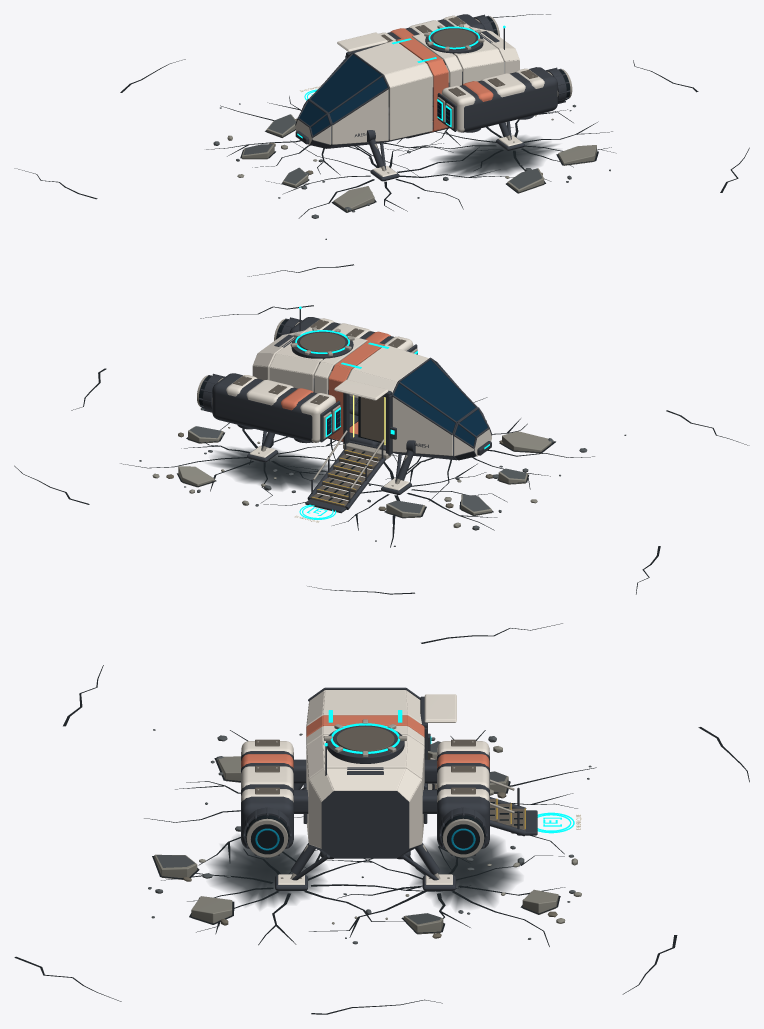
File: ares-lander.glb
The picture shows the model from 3 angles, top to bottom: view 1: azimuth 30°, elevation 25°; view 2: azimuth 150°, elevation 25°; view 3: azimuth 270°, elevation 25°; orthographic projection. The views are drawn at different scales.
Parts seen in each view (by area): view 1: ARES_nave_08, ARES_nave_14, ARES_impacto_04, ARES_nave_07, ARES_impacto_02, ARES_impacto_03, ARES_nave_11, ARES_impacto_01, ARES_nave_09, ARES_nave_05, ARES_nave_17; view 2: ARES_nave_08, ARES_nave_14, ARES_nave_07, ARES_nave_09, ARES_impacto_04, ARES_impacto_02, ARES_impacto_03, ARES_nave_11, ARES_impacto_01, ARES_nave_05, ARES_nave_10, ARES_nave_17 (+1 smaller); view 3: ARES_nave_14, ARES_nave_08, ARES_impacto_02, ARES_impacto_04, ARES_impacto_03, ARES_nave_09, ARES_nave_11, ARES_nave_06, ARES_nave_05, ARES_impacto_01, ARES_nave_17.
Boxes of the visible parts, x1=… form: ARES_nave_08: x1=295, y1=15, x2=544, y2=176; ARES_nave_14: x1=295, y1=14, x2=570, y2=181; ARES_impacto_04: x1=14, y1=14, x2=749, y2=276; ARES_nave_07: x1=299, y1=54, x2=450, y2=135; ARES_impacto_02: x1=433, y1=136, x2=558, y2=177; ARES_impacto_03: x1=227, y1=114, x2=596, y2=212; ARES_nave_11: x1=390, y1=28, x2=493, y2=132; ARES_impacto_01: x1=213, y1=103, x2=610, y2=239; ARES_nave_09: x1=381, y1=17, x2=538, y2=96; ARES_nave_05: x1=374, y1=16, x2=572, y2=173; ARES_nave_17: x1=297, y1=25, x2=505, y2=138; ARES_nave_08: x1=226, y1=318, x2=491, y2=490; ARES_nave_14: x1=199, y1=309, x2=492, y2=513; ARES_nave_07: x1=327, y1=353, x2=487, y2=445; ARES_nave_09: x1=233, y1=319, x2=405, y2=507; ARES_impacto_04: x1=14, y1=305, x2=749, y2=594; ARES_impacto_02: x1=208, y1=401, x2=358, y2=490; ARES_impacto_03: x1=152, y1=426, x2=553, y2=527; ARES_nave_11: x1=281, y1=331, x2=390, y2=441; ARES_impacto_01: x1=139, y1=408, x2=626, y2=546; ARES_nave_05: x1=197, y1=319, x2=417, y2=489; ARES_nave_10: x1=360, y1=396, x2=385, y2=442; ARES_nave_17: x1=295, y1=306, x2=489, y2=519; ARES_nave_14: x1=241, y1=687, x2=537, y2=890; ARES_nave_08: x1=241, y1=690, x2=489, y2=884; ARES_impacto_02: x1=208, y1=835, x2=520, y2=909; ARES_impacto_04: x1=14, y1=623, x2=749, y2=1014; ARES_impacto_03: x1=154, y1=741, x2=581, y2=934; ARES_nave_09: x1=255, y1=726, x2=525, y2=833; ARES_nave_11: x1=241, y1=715, x2=489, y2=768; ARES_nave_06: x1=245, y1=784, x2=522, y2=854; ARES_nave_05: x1=246, y1=719, x2=514, y2=879; ARES_impacto_01: x1=148, y1=729, x2=591, y2=944; ARES_nave_17: x1=324, y1=710, x2=574, y2=833.
Bounding box in the file's own units: 20.04 × 3.55 × 15.92.
